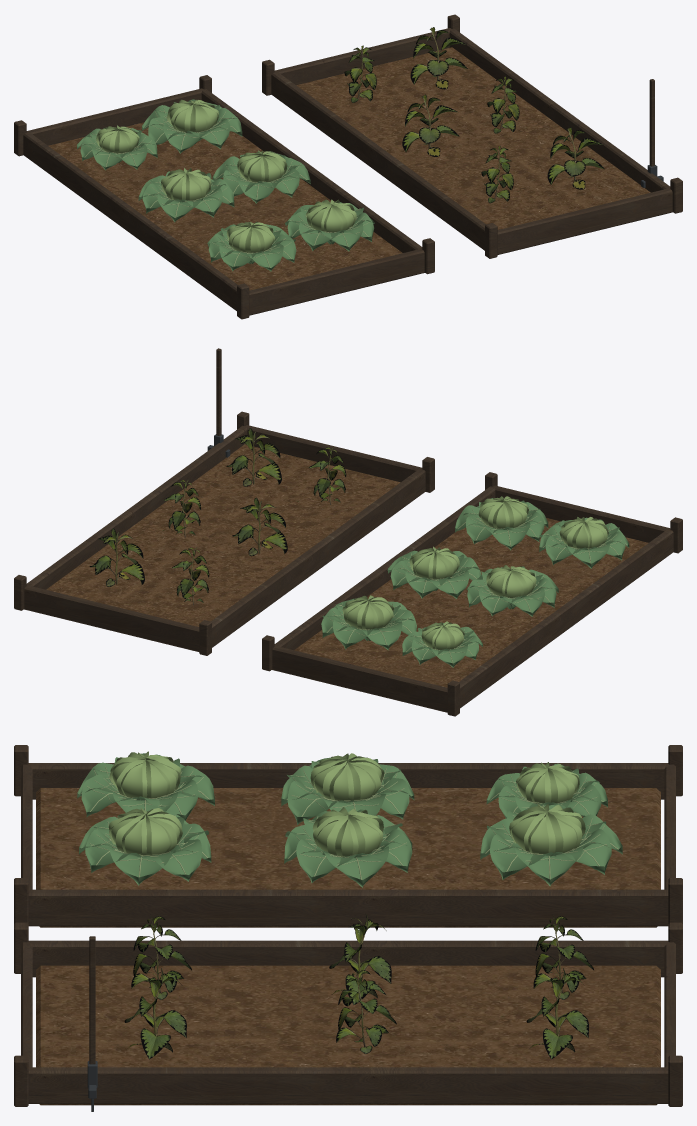
The model's file is elin-garden.glb.
3 renders of one model, top to bottom at view 1: azimuth 30°, elevation 25°; view 2: azimuth 150°, elevation 25°; view 3: azimuth 270°, elevation 25°, orthographic. The views are drawn at different scales.
Parts seen in each view (by area): view 1: garden_06, garden_00, garden_01, garden_02, garden_05, garden_03; view 2: garden_06, garden_00, garden_01, garden_02, garden_05, garden_03; view 3: garden_06, garden_00, garden_01, garden_02, garden_05, garden_03.
Boxes of the visible parts, x1,y1,x2,y2 form: garden_06: [48, 47, 650, 290]; garden_00: [14, 14, 682, 319]; garden_01: [77, 99, 374, 271]; garden_02: [96, 99, 356, 259]; garden_05: [344, 27, 604, 203]; garden_03: [79, 106, 369, 267]; garden_06: [46, 444, 648, 687]; garden_00: [14, 348, 682, 716]; garden_01: [321, 498, 629, 667]; garden_02: [342, 496, 608, 649]; garden_05: [89, 428, 346, 605]; garden_03: [326, 505, 626, 663]; garden_06: [36, 788, 660, 1105]; garden_00: [14, 745, 682, 1106]; garden_01: [77, 753, 622, 887]; garden_02: [108, 751, 585, 856]; garden_05: [124, 914, 593, 1059]; garden_03: [81, 760, 618, 879].
Bounding box in the file's own units: 4.15 × 1.05 × 3.66.
7 materials, 3 textured.
